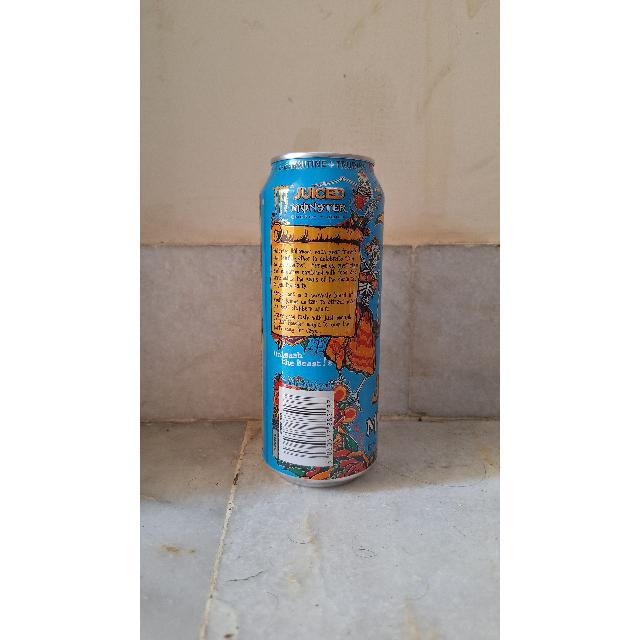Monster Mango Loco: (238, 133, 404, 500)
